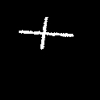single_crochet: (19, 17, 72, 48)
